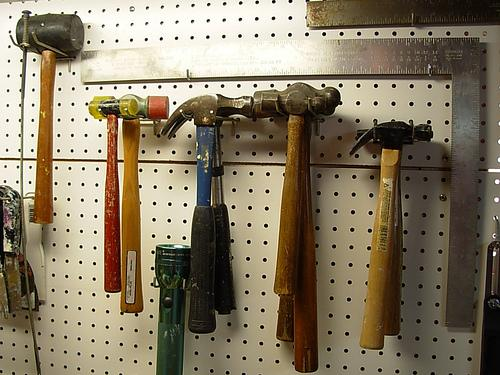hammer: (156, 91, 255, 334), (345, 118, 435, 353), (251, 87, 337, 297)
